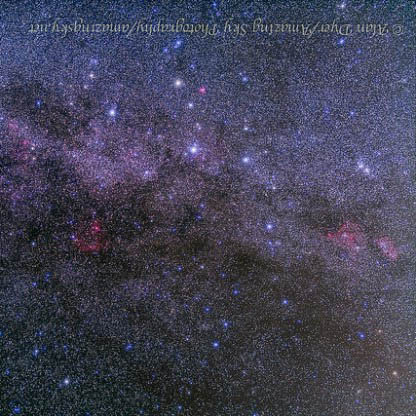Cassiopeia: (167, 73, 197, 115), (180, 133, 206, 162), (235, 145, 256, 172), (259, 209, 277, 239), (105, 101, 123, 126)
